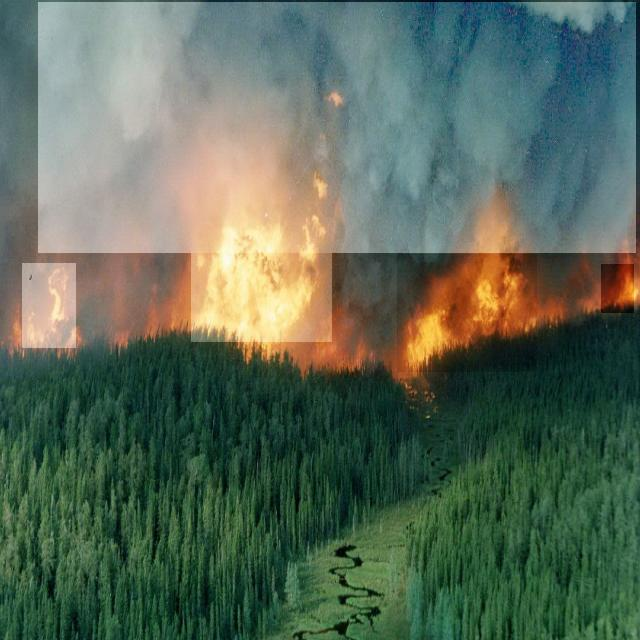Fire: (191, 205, 332, 342), (397, 254, 537, 372), (22, 263, 76, 348), (601, 264, 634, 313)
Smoke: (38, 2, 636, 253)
